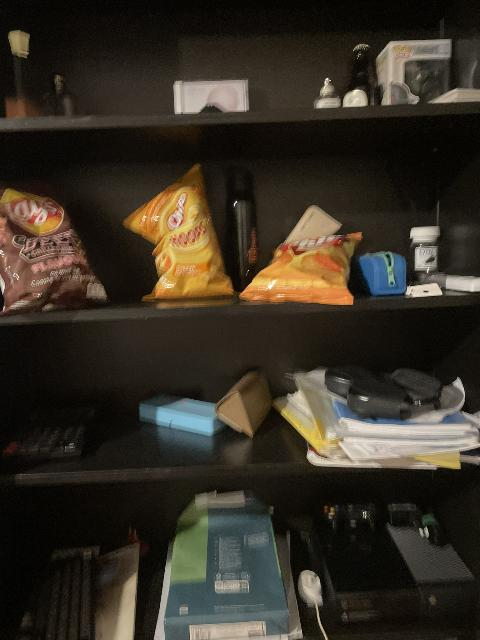Chio Cascaval 125g: (239, 229, 358, 306)
Chio Hula Hoops Cheese 70g: (124, 163, 235, 303)
Lays Beef Grilled Ribs 125g: (0, 186, 112, 316)
